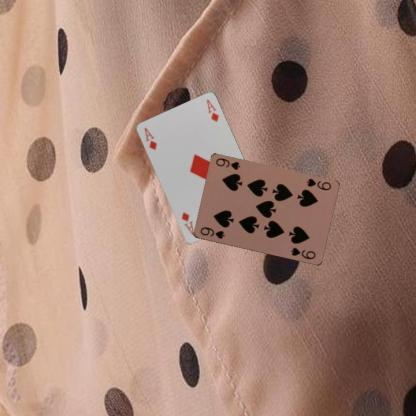9s: (304, 176, 332, 192), (198, 225, 226, 240)
Ad: (142, 125, 158, 151)
